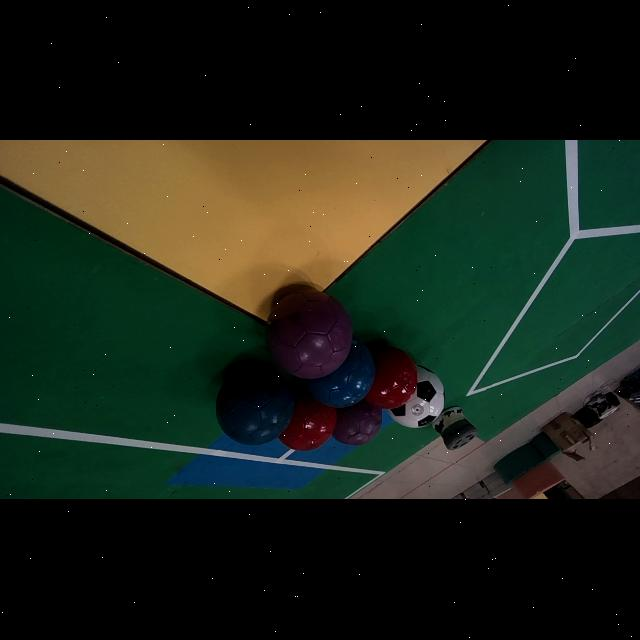B: (215, 367, 294, 447), (303, 339, 376, 408)
P: (266, 291, 352, 380), (333, 401, 383, 447)
R: (279, 382, 337, 452), (365, 346, 417, 410)
